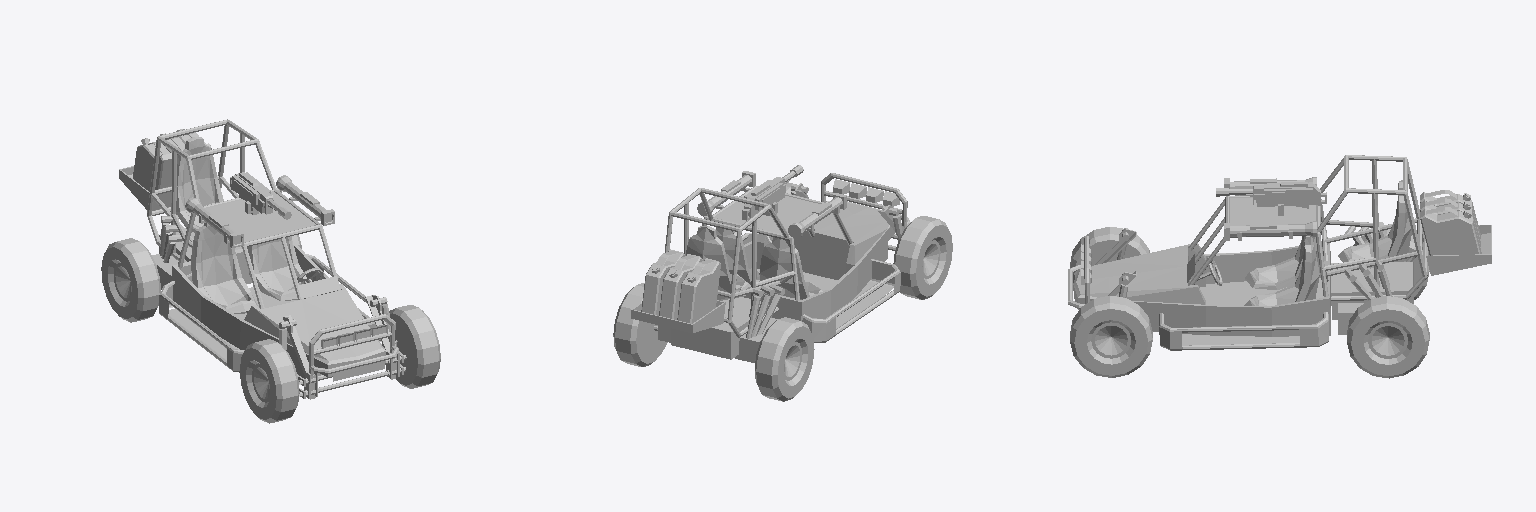
The model's file is Truck2.obj.
3 renders of one model, left to right at view 1: azimuth 30°, elevation 25°; view 2: azimuth 150°, elevation 25°; view 3: azimuth 270°, elevation 25°, orthographic.
Visible parts, largest first — view 1: buggy1; view 2: buggy1; view 3: buggy1.
Boxes of the visible parts, x1=… form: buggy1: x1=101, y1=119, x2=440, y2=423; buggy1: x1=613, y1=165, x2=952, y2=401; buggy1: x1=1068, y1=155, x2=1491, y2=378.
Bounding box in the file's own units: 2.11 × 2.07 × 4.73.